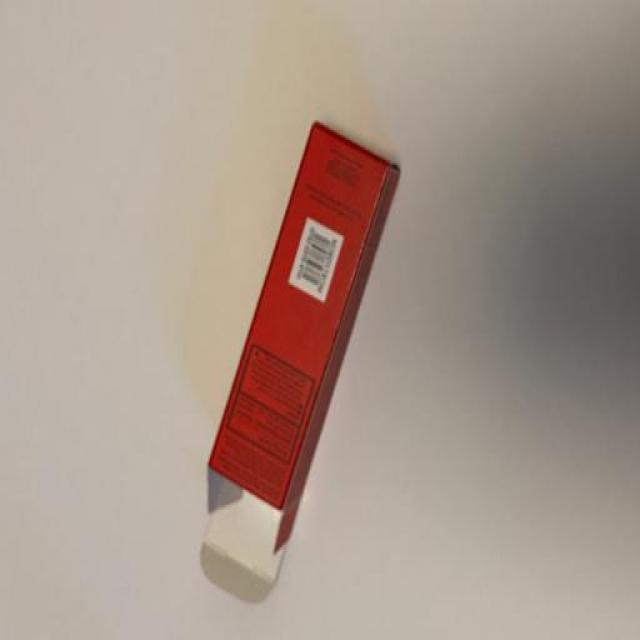cardboard: (192, 123, 418, 609)
